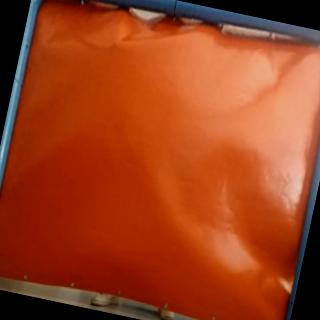Hit-hRxx: (106, 38, 123, 50)
